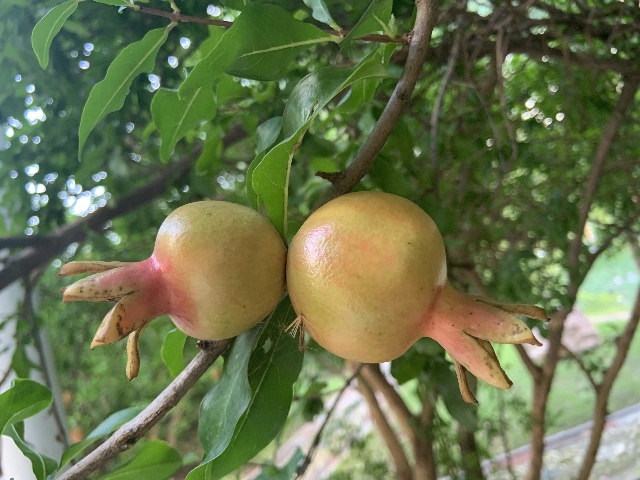mid-growth: (287, 190, 549, 402), (57, 200, 286, 381)
